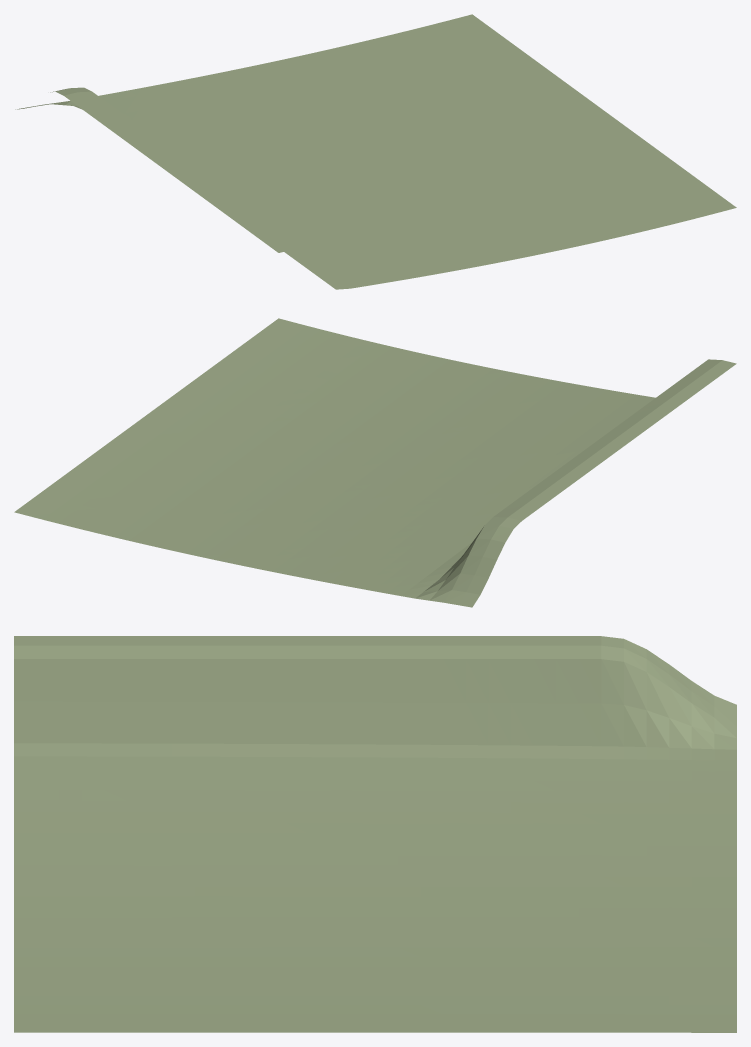
File: valley-8-9.glb
The picture shows the model from 3 angles, top to bottom: view 1: azimuth 30°, elevation 25°; view 2: azimuth 150°, elevation 25°; view 3: azimuth 270°, elevation 25°; orthographic projection. The views are drawn at different scales.
Parts seen in each view (by area): view 1: valley-8-9; view 2: valley-8-9; view 3: valley-8-9.
Boxes of the visible parts, <box> form: valley-8-9: <box>15,14,736,289</box>; valley-8-9: <box>14,318,736,607</box>; valley-8-9: <box>14,636,736,1032</box>.
Size of the model in its own units: 256 by 36 by 256.
